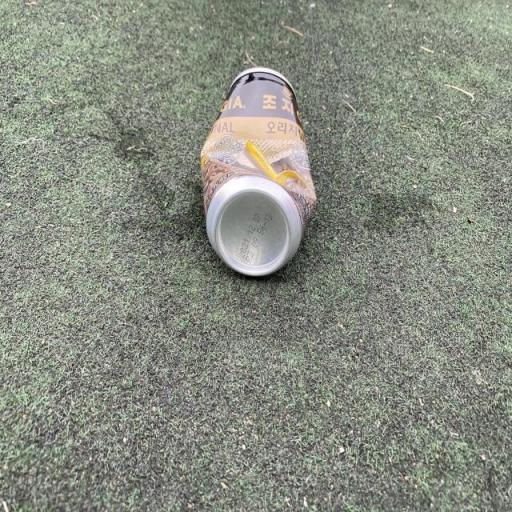metal: (180, 51, 326, 297)
